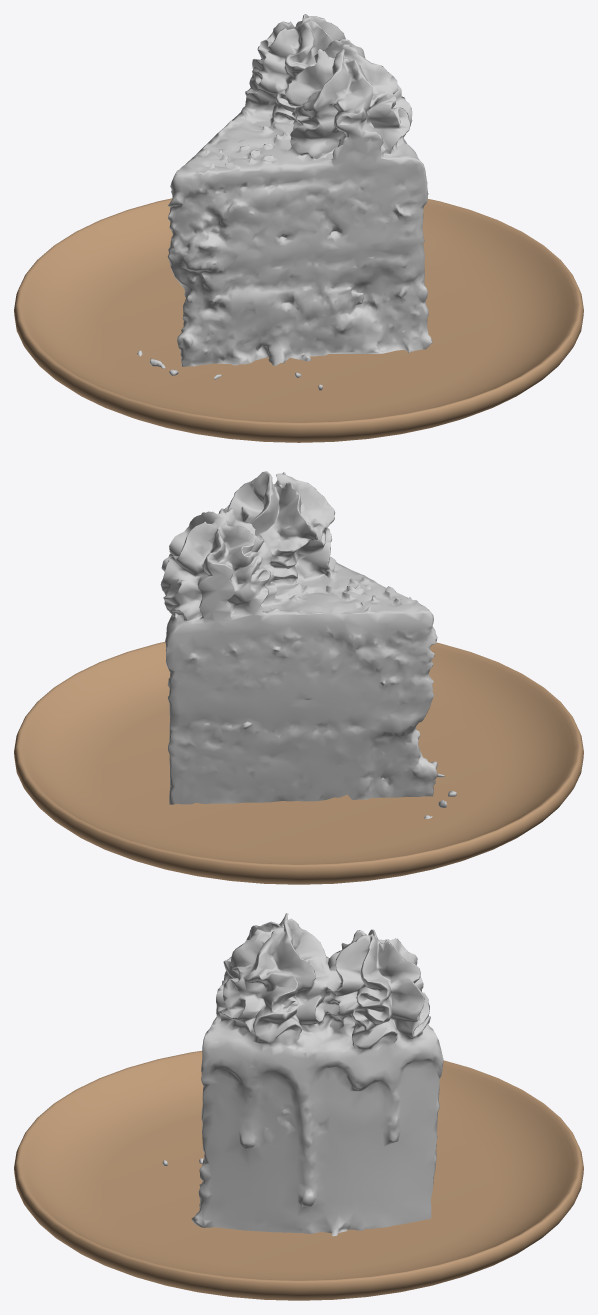
3 renders of one model, top to bottom at view 1: azimuth 30°, elevation 25°; view 2: azimuth 150°, elevation 25°; view 3: azimuth 270°, elevation 25°, orthographic.
Parts seen in each view (by area): view 1: Dish, Chocolate_Gateau_slice; view 2: Dish, Chocolate_Gateau_slice; view 3: Dish, Chocolate_Gateau_slice.
Part boxes in pixels (left/top/right/bottom): Dish: left=14, top=198, right=583, bottom=442; Chocolate_Gateau_slice: left=137, top=14, right=432, bottom=390; Dish: left=14, top=642, right=583, bottom=884; Chocolate_Gateau_slice: left=160, top=471, right=456, bottom=818; Dish: left=14, top=1051, right=583, bottom=1300; Chocolate_Gateau_slice: left=162, top=913, right=443, bottom=1236.
Bounding box in the file's own units: 0.2076 × 0.123 × 0.2076.
